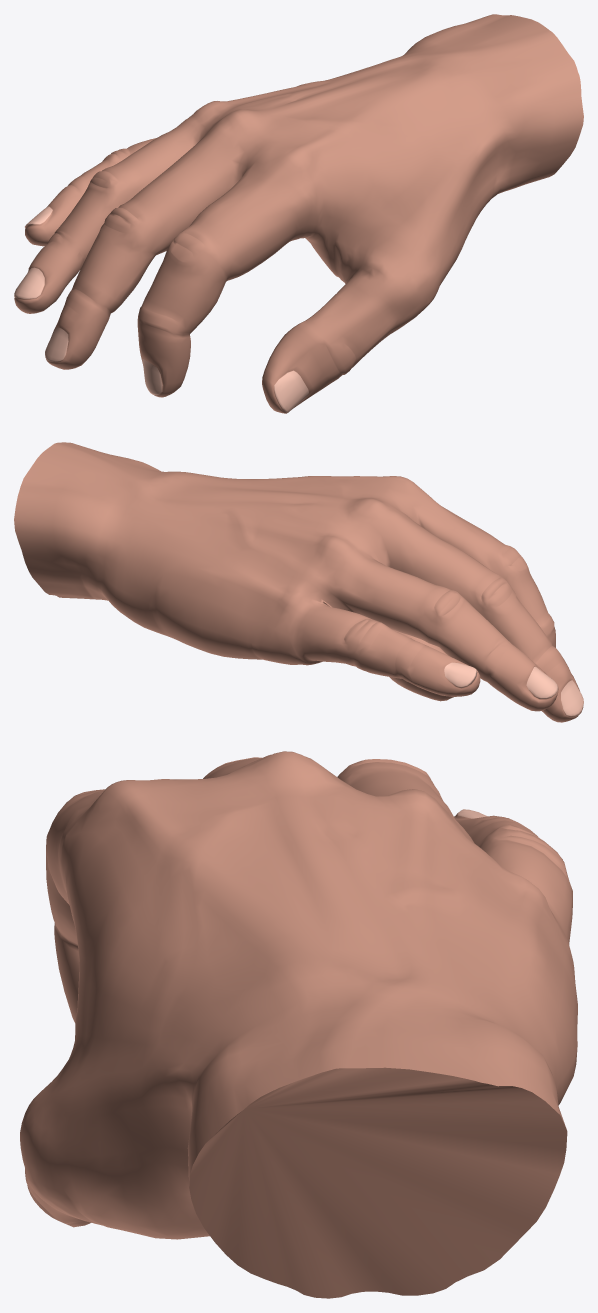
File: hand_06.obj
3 renders of one model, top to bottom at view 1: azimuth 30°, elevation 25°; view 2: azimuth 150°, elevation 25°; view 3: azimuth 270°, elevation 25°, orthographic. The views are drawn at different scales.
Parts seen in each view (by area): view 1: Figure_2; view 2: Figure_2; view 3: Figure_2.
Part boxes in pixels (x1,y1,x2,y2): Figure_2: (14, 14, 583, 413); Figure_2: (14, 442, 583, 722); Figure_2: (20, 751, 577, 1298).
Bounding box in the file's own units: 0.8331 × 0.3724 × 0.3993.
